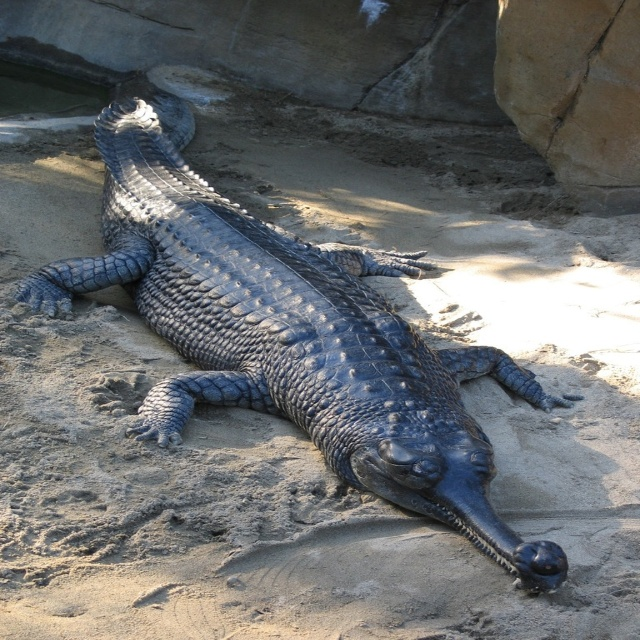Crocodile: (7, 89, 583, 600)
